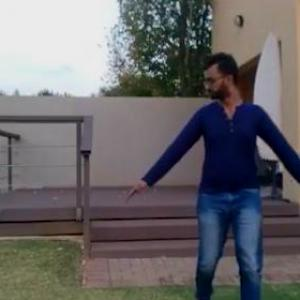land: (125, 50, 299, 299)
